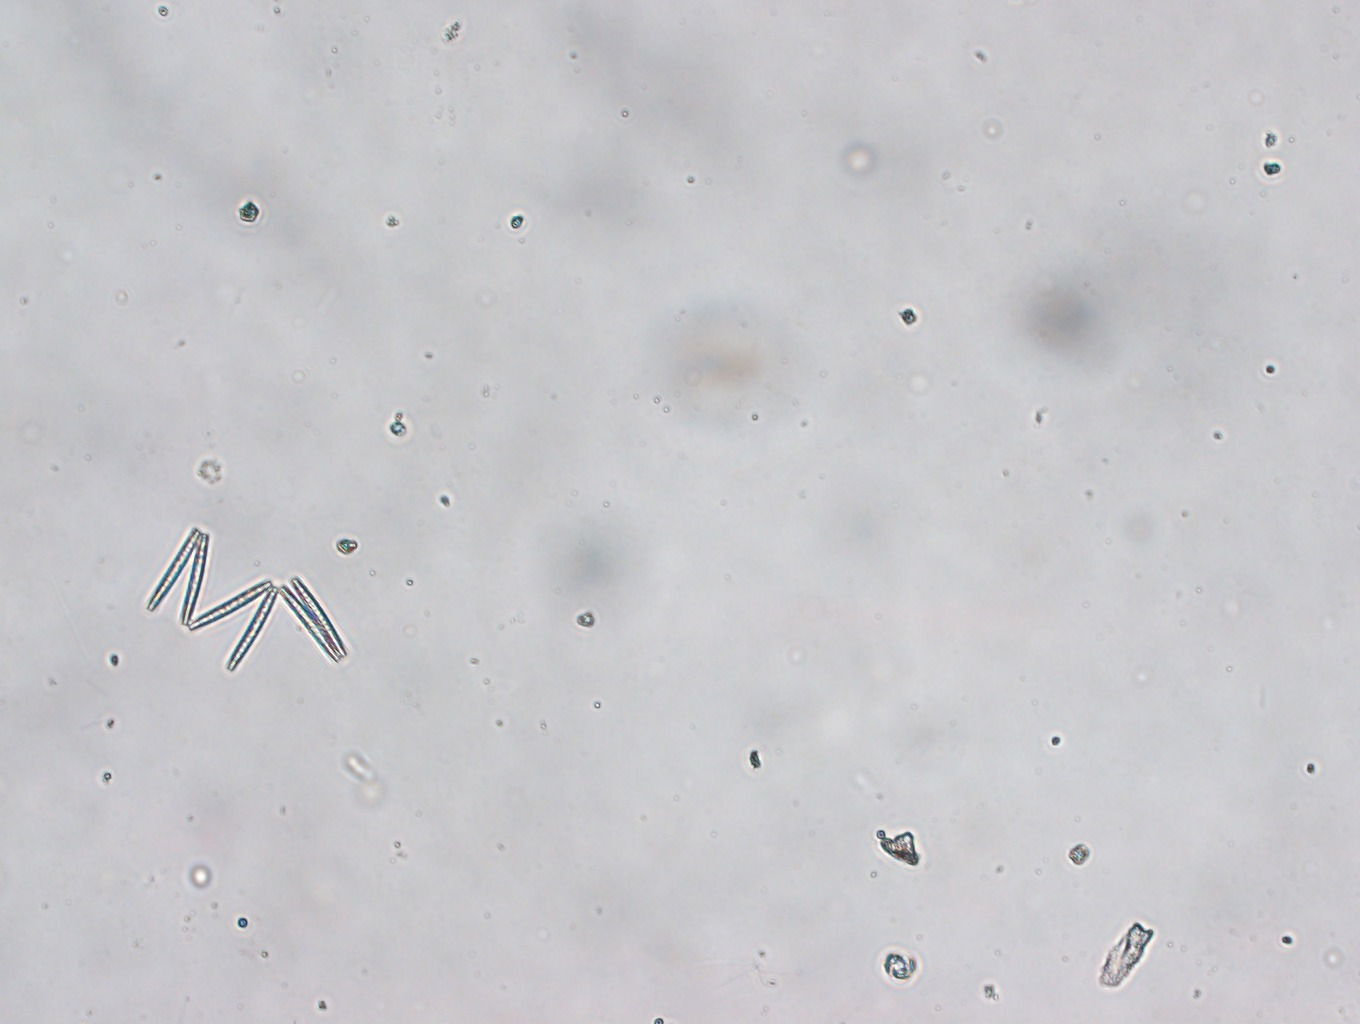thalassionema nitzschioides: (148, 528, 347, 674)
